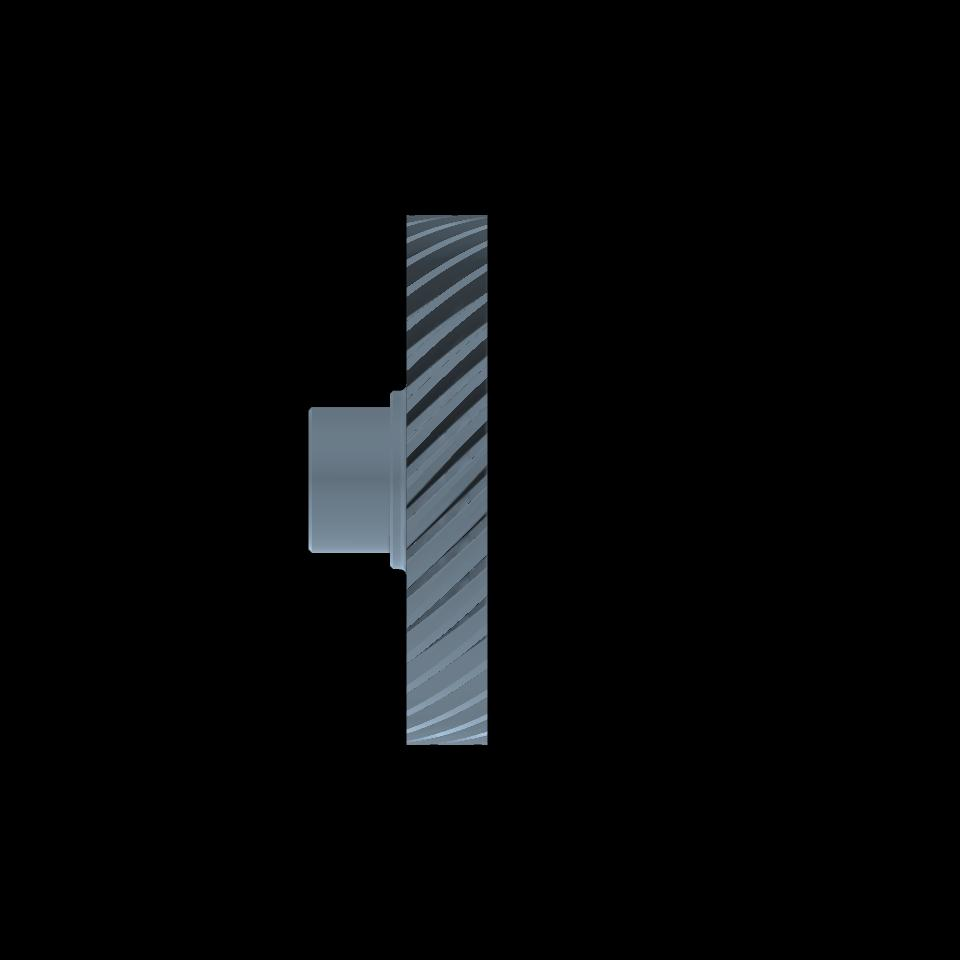Helical: (407, 215, 487, 744)
